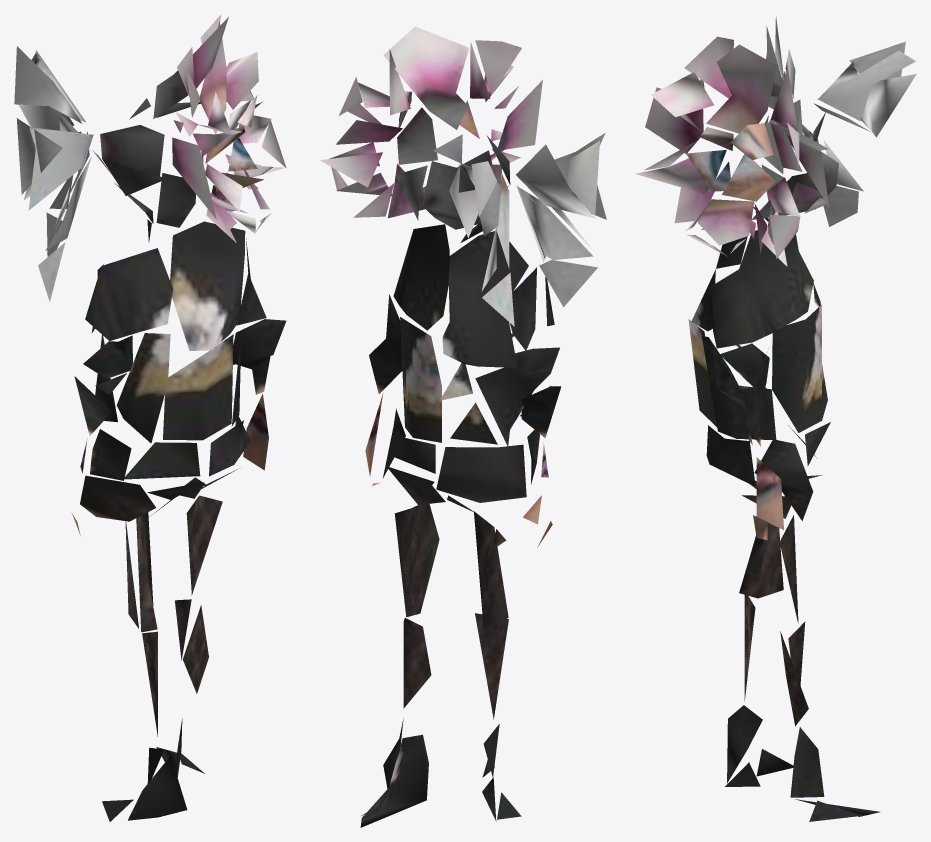
The model's file is crowd_susan_lite.glb.
3 views of the same model, side by side, from view 1: azimuth 30°, elevation 25°; view 2: azimuth 150°, elevation 25°; view 3: azimuth 270°, elevation 25° (orthographic). The views are drawn at different scales.
Parts seen in each view (by area): view 1: tripo_node_fbabcdb4-667d-453d-b6af-065c32072f40; view 2: tripo_node_fbabcdb4-667d-453d-b6af-065c32072f40; view 3: tripo_node_fbabcdb4-667d-453d-b6af-065c32072f40.
Part boxes in pixels (x1=…): tripo_node_fbabcdb4-667d-453d-b6af-065c32072f40: x1=14, y1=14, x2=286, y2=821; tripo_node_fbabcdb4-667d-453d-b6af-065c32072f40: x1=320, y1=26, x2=606, y2=827; tripo_node_fbabcdb4-667d-453d-b6af-065c32072f40: x1=635, y1=16, x2=916, y2=821.
Size of the model in its own units: 0.6677 by 1.87 by 0.6114.
Materials: 1 (1 with a texture image).
